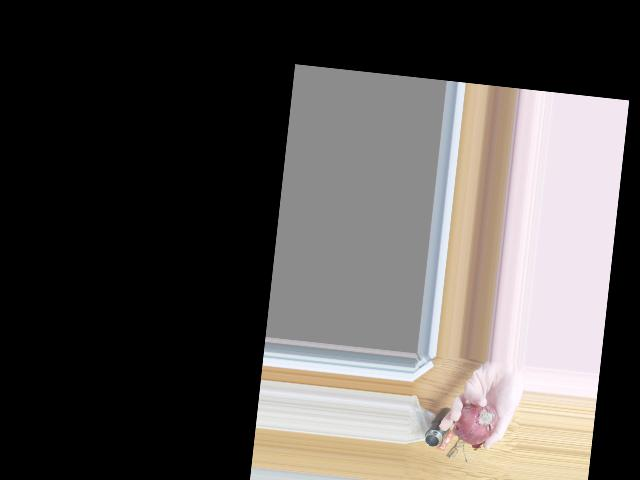onion: (456, 400, 498, 446)
